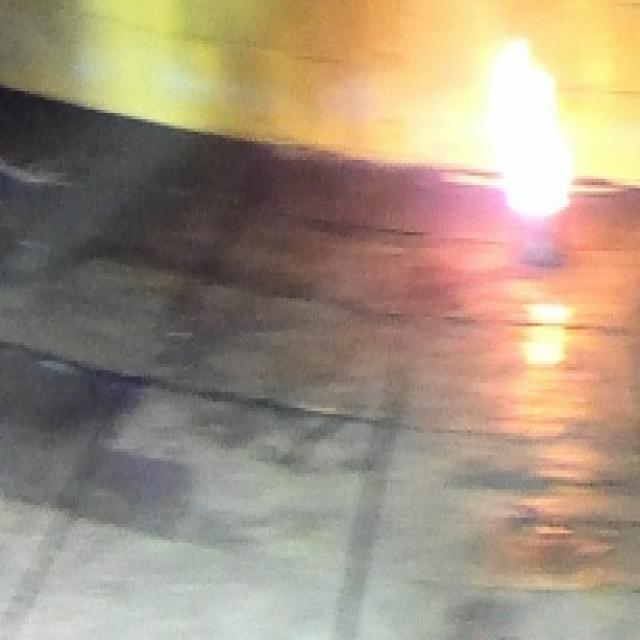Fire: (489, 38, 573, 217)
